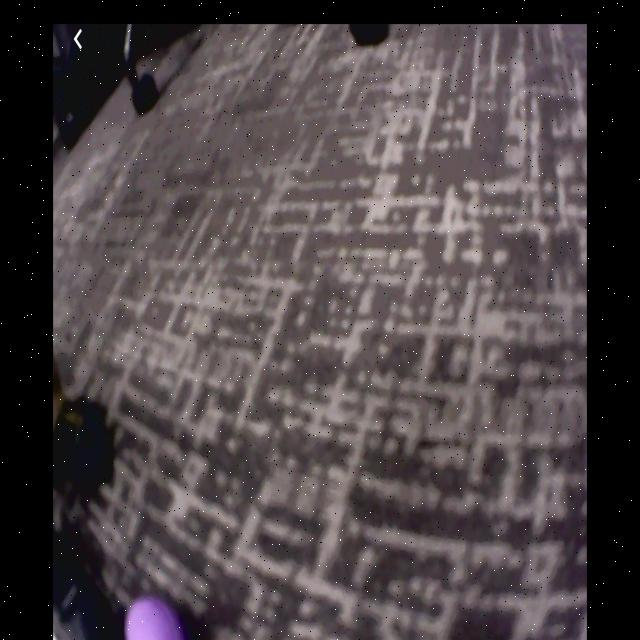ball: (126, 599, 184, 640)
